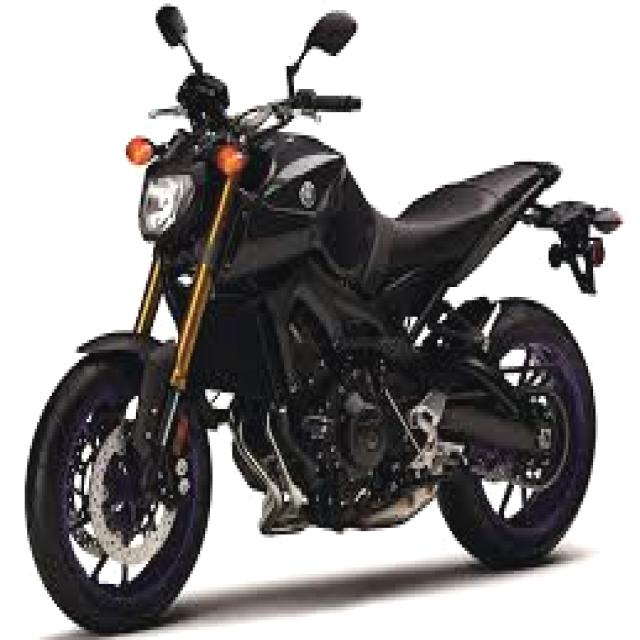MOTORCYCLE: (17, 8, 609, 630)
